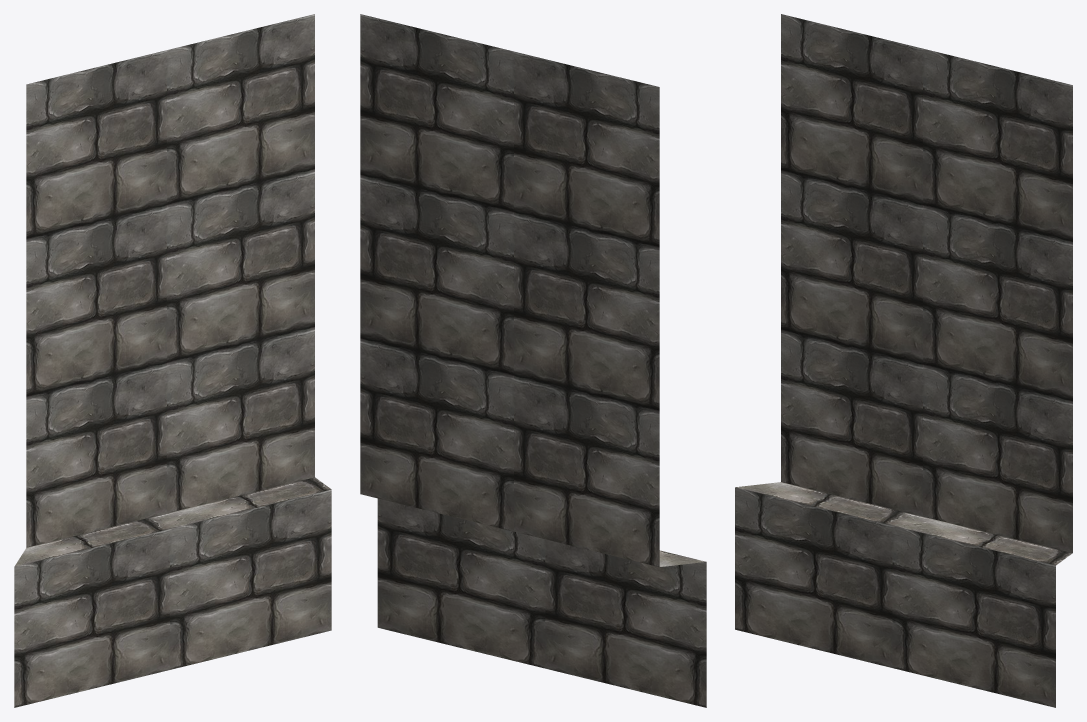
The model's file is Castle Walls Corner Short Left.FBX.
The picture shows the model from 3 angles, left to right: view 1: azimuth 30°, elevation 25°; view 2: azimuth 150°, elevation 25°; view 3: azimuth 330°, elevation 25°; orthographic projection. The views are drawn at different scales.
Parts seen in each view (by area): view 1: Plane003; view 2: Plane003; view 3: Plane003.
Boxes of the visible parts, left/top/right/bottom form: Plane003: left=14, top=14, right=331, bottom=707; Plane003: left=360, top=14, right=706, bottom=707; Plane003: left=735, top=14, right=1072, bottom=707.
Size of the model in its own units: 2.79 by 5.08 by 0.254.
1 material, 1 textured.
